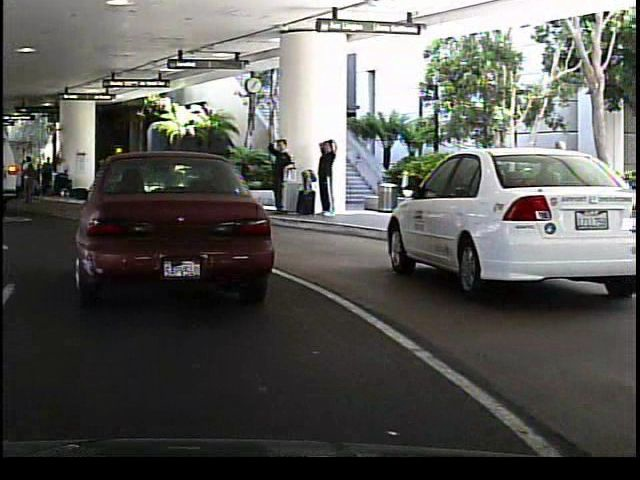person: (311, 134, 337, 219), (265, 132, 285, 212), (310, 148, 332, 214), (153, 155, 173, 197)
